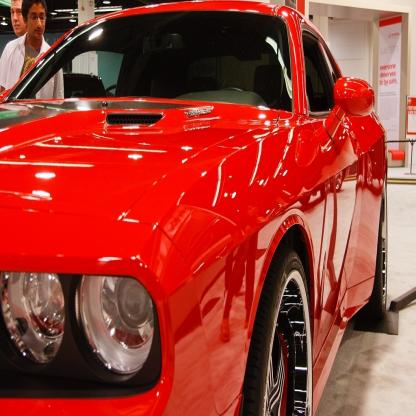Car: (1, 1, 388, 416)
